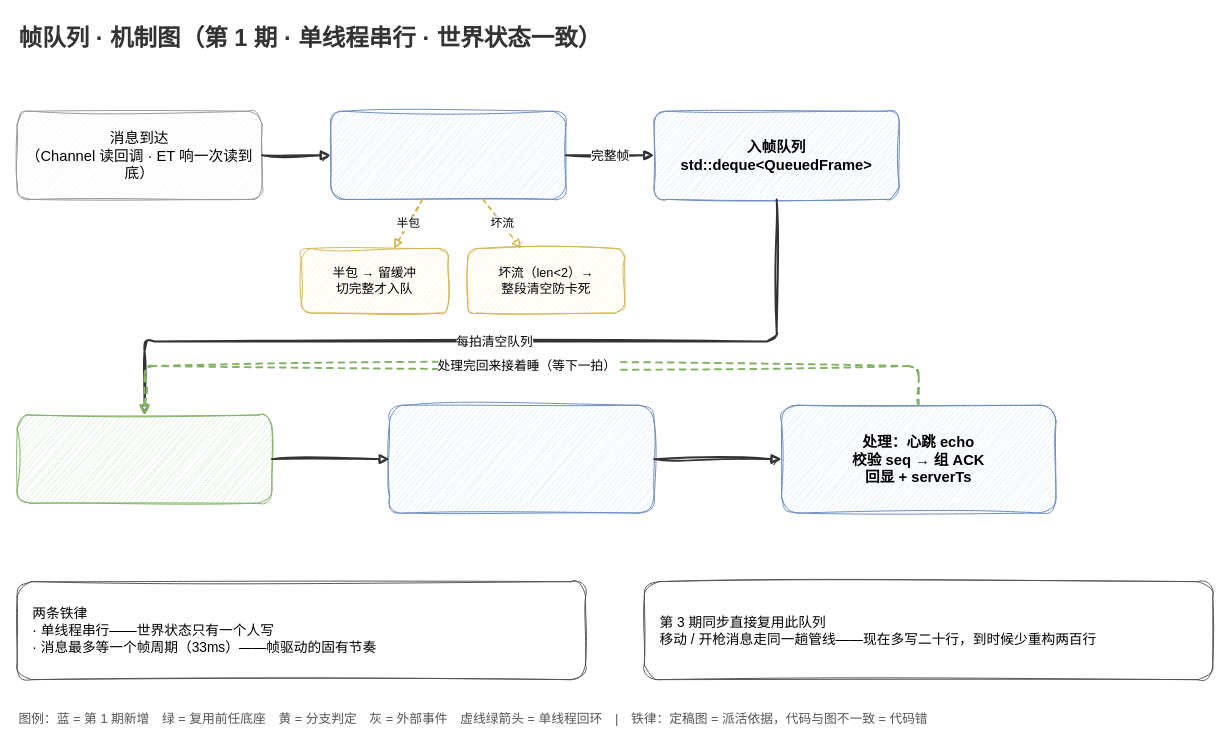
Some shapes in this 1230 by 751 pixel diagram are drawn without their labels. The shapes that lost their labels are listed below. From the top down, each one's centre as x and y in pixels, then its label:
At pixel 448 154: "切帧 FrameCodec [2B len][2B msgid]".
At pixel 144 458: "33ms 帧驱动 timerfd · 时间轮推拍".
At pixel 521 458: "取帧 → 分发 main 内联 if/else （限频钩子挂点 = 第 3 期）".
